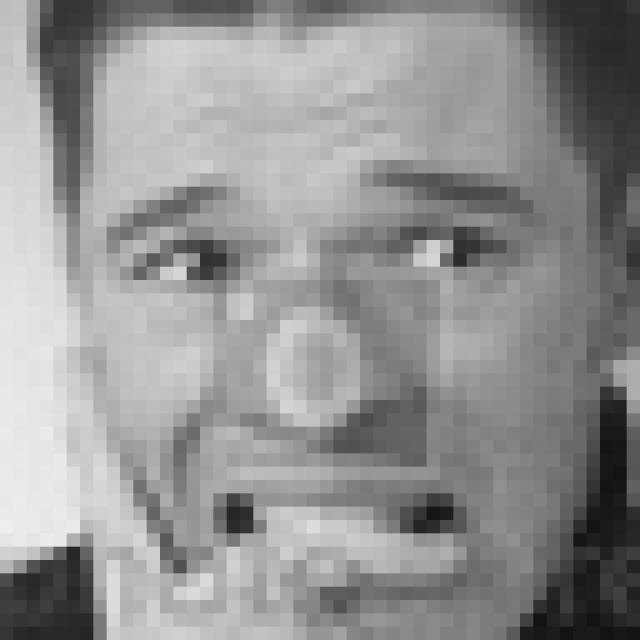fear: (97, 154, 569, 612)
